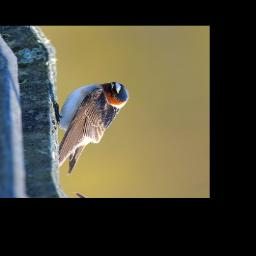Swallow: (30, 76, 153, 177)
